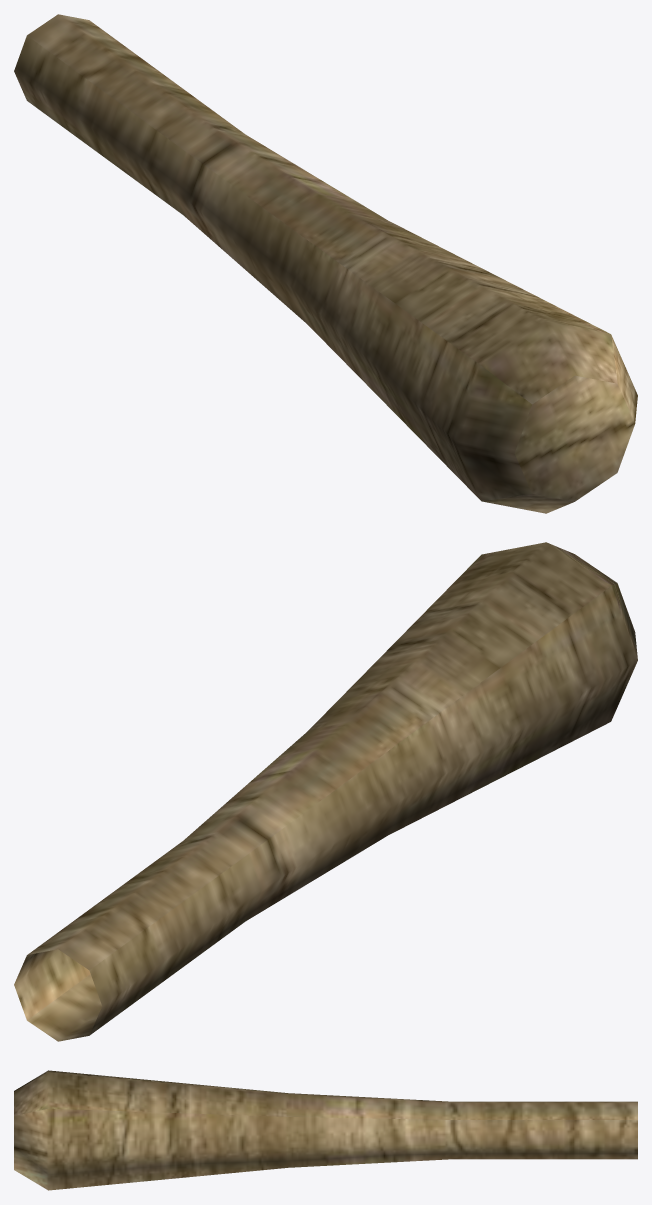
File: lever_wooden.obj
3 renders of one model, top to bottom at view 1: azimuth 30°, elevation 25°; view 2: azimuth 150°, elevation 25°; view 3: azimuth 270°, elevation 25°, orthographic. The views are drawn at different scales.
Visible parts, largest first — view 1: wall_lever_wooden; view 2: wall_lever_wooden; view 3: wall_lever_wooden.
Part boxes in pixels (x1=…): wall_lever_wooden: x1=14, y1=14, x2=637, y2=513; wall_lever_wooden: x1=14, y1=542, x2=637, y2=1041; wall_lever_wooden: x1=14, y1=1070, x2=637, y2=1190.
Size of the model in its own units: 1.15 by 1.15 by 5.62.
Materials: 1 (1 with a texture image).
